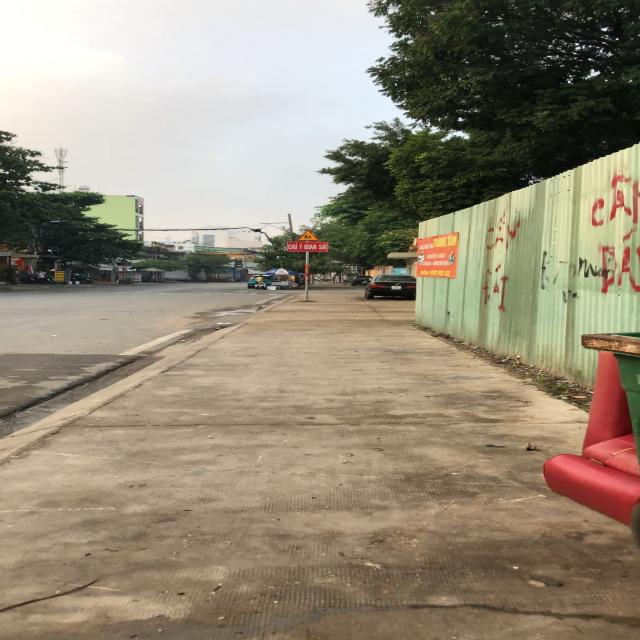Bien bao tre em: (297, 229, 320, 241)
